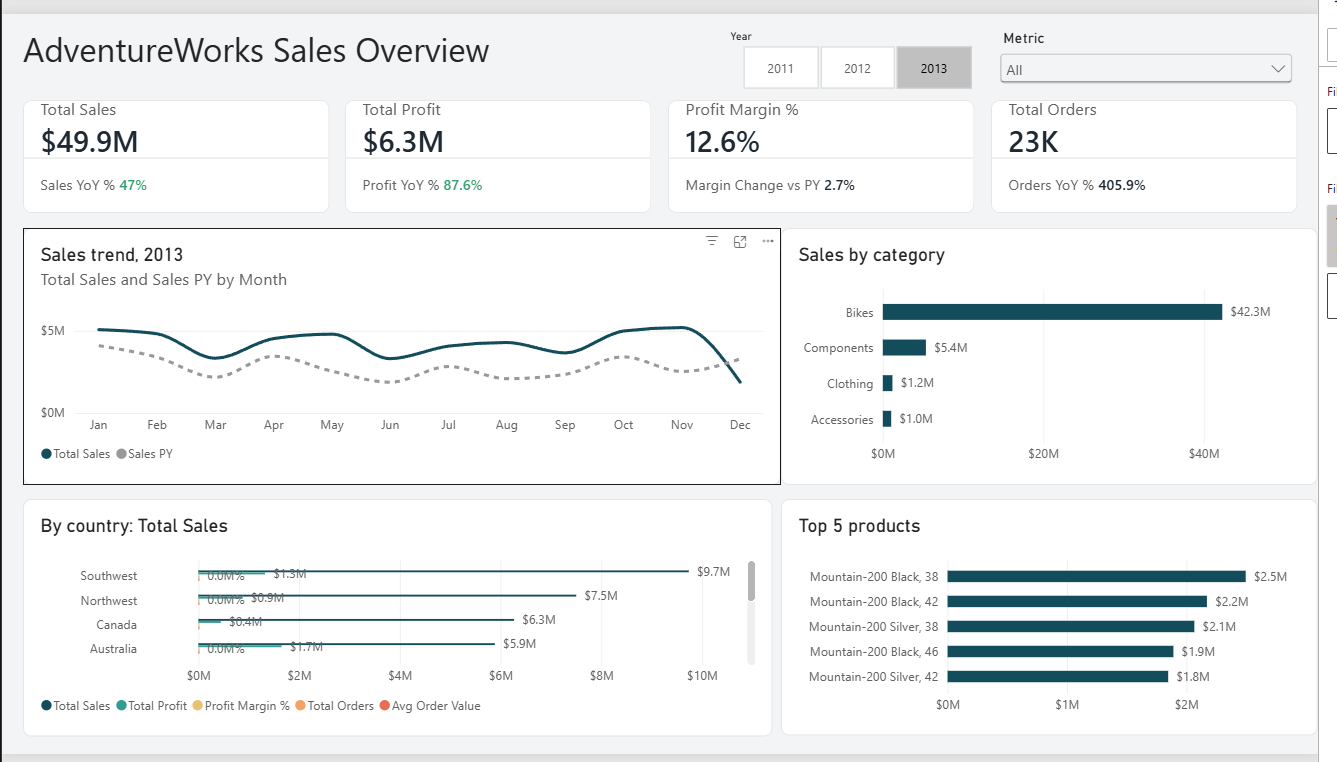

The dashboard page shown, as its layout file describes it:
{"tool":"powerbi","page":{"name":"Overview","canvas":[1280,720],"ordinal":0},"visuals":[{"type":"cardVisual","title":"Total Sales Card","fields":{"Data":["_measures.Total Sales"]},"box":[20,84,298,110],"z":0},{"type":"cardVisual","title":"Total Profit Card","fields":{"Data":["_measures.Total Profit"]},"box":[334,84,298,110],"z":1000},{"type":"cardVisual","title":"Profit Margin Card","fields":{"Data":["_measures.Profit Margin %"]},"box":[648,84,298,110],"z":2000},{"type":"cardVisual","title":"Total Orders Card","fields":{"Data":["_measures.Total Orders"]},"box":[962,84,298,110],"z":3000},{"type":"textbox","title":"Header Title","box":[20,12,660,56],"z":4000},{"type":"slicer","title":"Year Slicer","fields":{"Values":["Date.Year"]},"box":[700.3,15.6,261.6,59.3],"z":5000},{"type":"slicer","title":"Metric Slicer","fields":{"Values":["Metric.Metric"]},"box":[965.8,15.6,293.7,52.5],"z":6000},{"type":"lineChart","fields":{"Category":["Date.Month"],"Y":["_measures.Total Sales","_measures.Sales PY"]},"box":[20.4,208.1,737.3,250],"z":7000},{"type":"clusteredBarChart","title":"Sales by category","fields":{"Category":["Product.Category"],"Y":["_measures.Total Sales"]},"box":[758,208.1,522.3,250],"z":8000},{"type":"clusteredBarChart","fields":{"Category":["Territory.Region"],"Y":["_measures.Total Sales","_measures.Total Profit","_measures.Profit Margin %","_measures.Total Orders","_measures.Avg Order Value"]},"box":[20.4,471.7,729.5,230.5],"z":9000},{"type":"clusteredBarChart","title":"Top 5 products","fields":{"Category":["Product.Product Name"],"Y":["_measures.Total Sales"]},"box":[758,472,522,230],"z":10000}]}

Visuals, with their boxes in screenshot pixels (x1, y1, x2, y2), scaled from the page's 1280x720 canvas onto the 1337x762 screenshot:
"Total Sales Card" cardVisual: 21, 89, 332, 205
"Total Profit Card" cardVisual: 349, 89, 660, 205
"Profit Margin Card" cardVisual: 677, 89, 988, 205
"Total Orders Card" cardVisual: 1005, 89, 1316, 205
"Header Title" textbox: 21, 13, 710, 72
"Year Slicer" slicer: 731, 17, 1005, 79
"Metric Slicer" slicer: 1009, 17, 1316, 72
lineChart - Date.Month x _measures.Total Sales: 21, 220, 791, 485
"Sales by category" clusteredBarChart: 792, 220, 1336, 485
clusteredBarChart - Territory.Region x _measures.Total Sales: 21, 499, 783, 743
"Top 5 products" clusteredBarChart: 792, 500, 1336, 743
